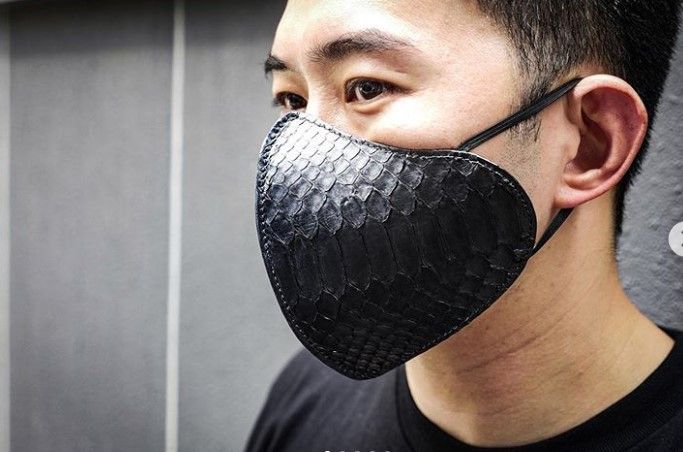face_with_mask: (246, 4, 646, 380)
